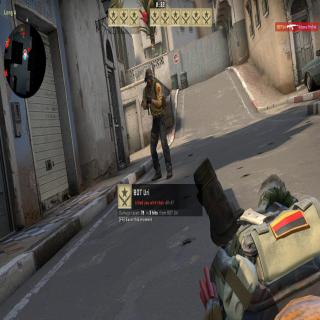T-Body: (141, 67, 173, 182)
T-Head: (144, 68, 154, 86)
